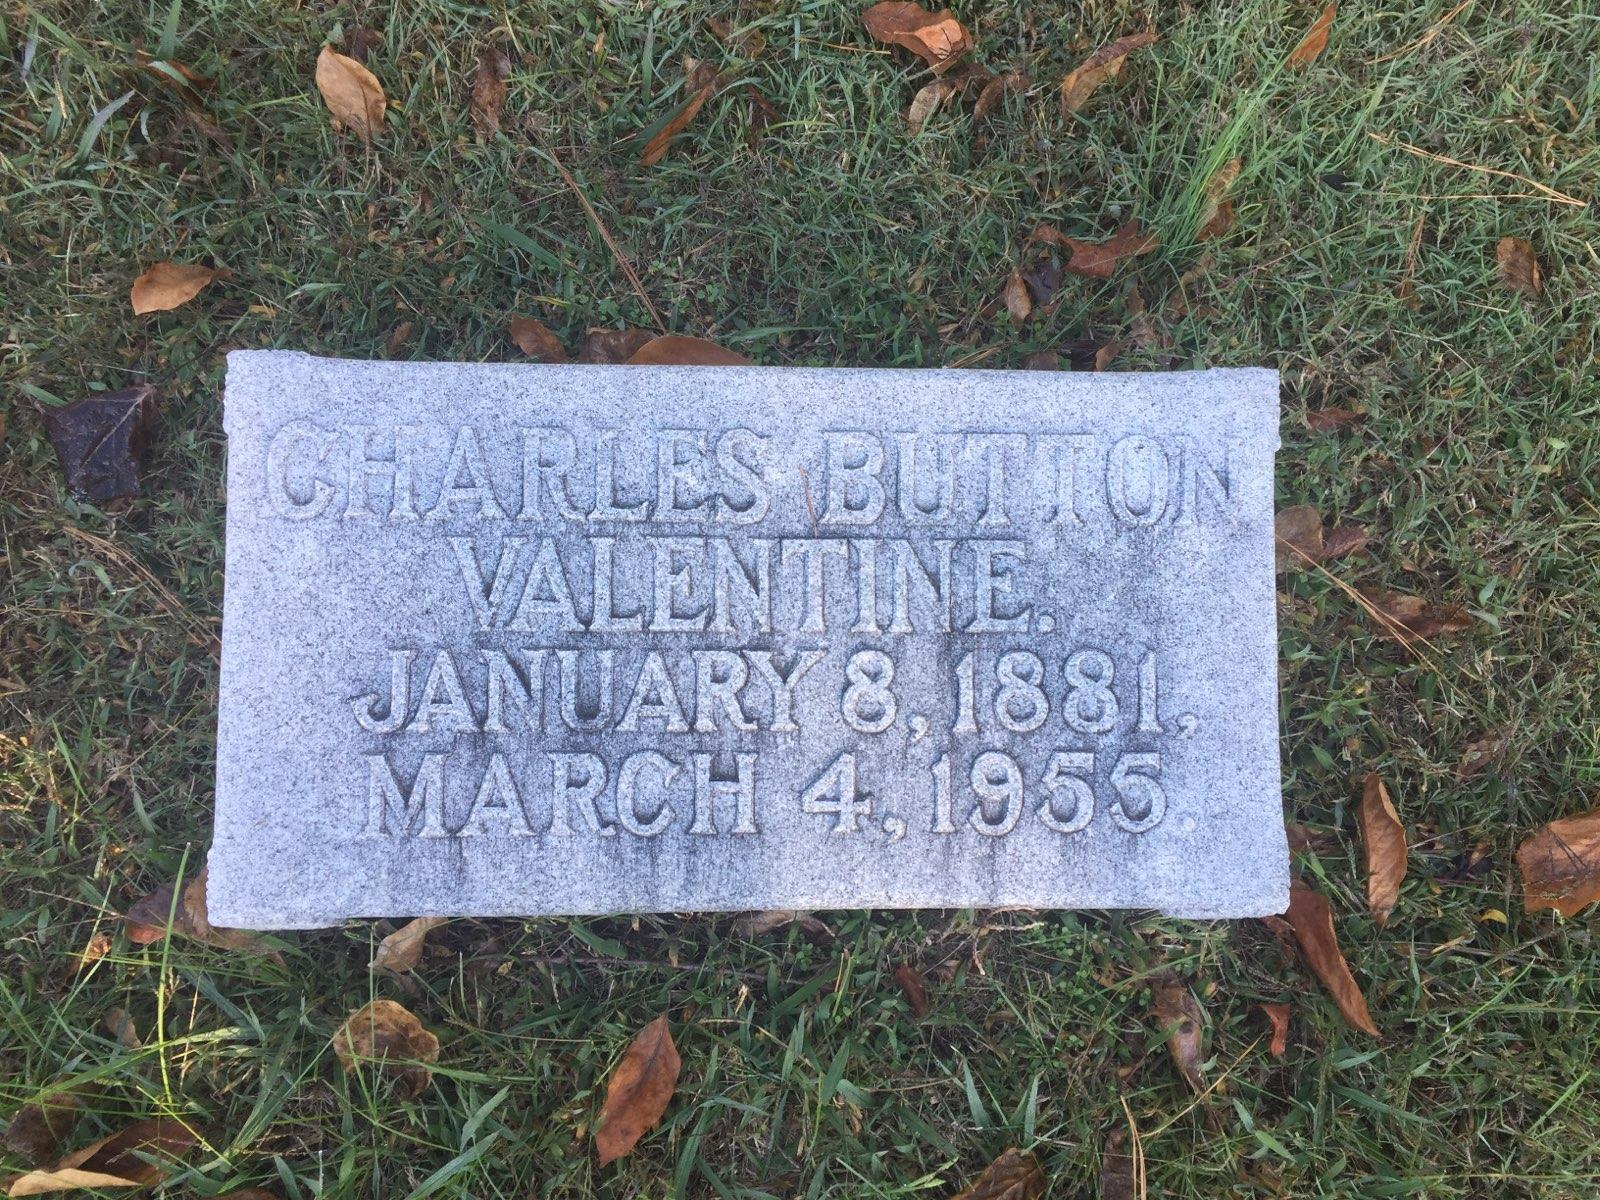flat: (202, 347, 1290, 926)
